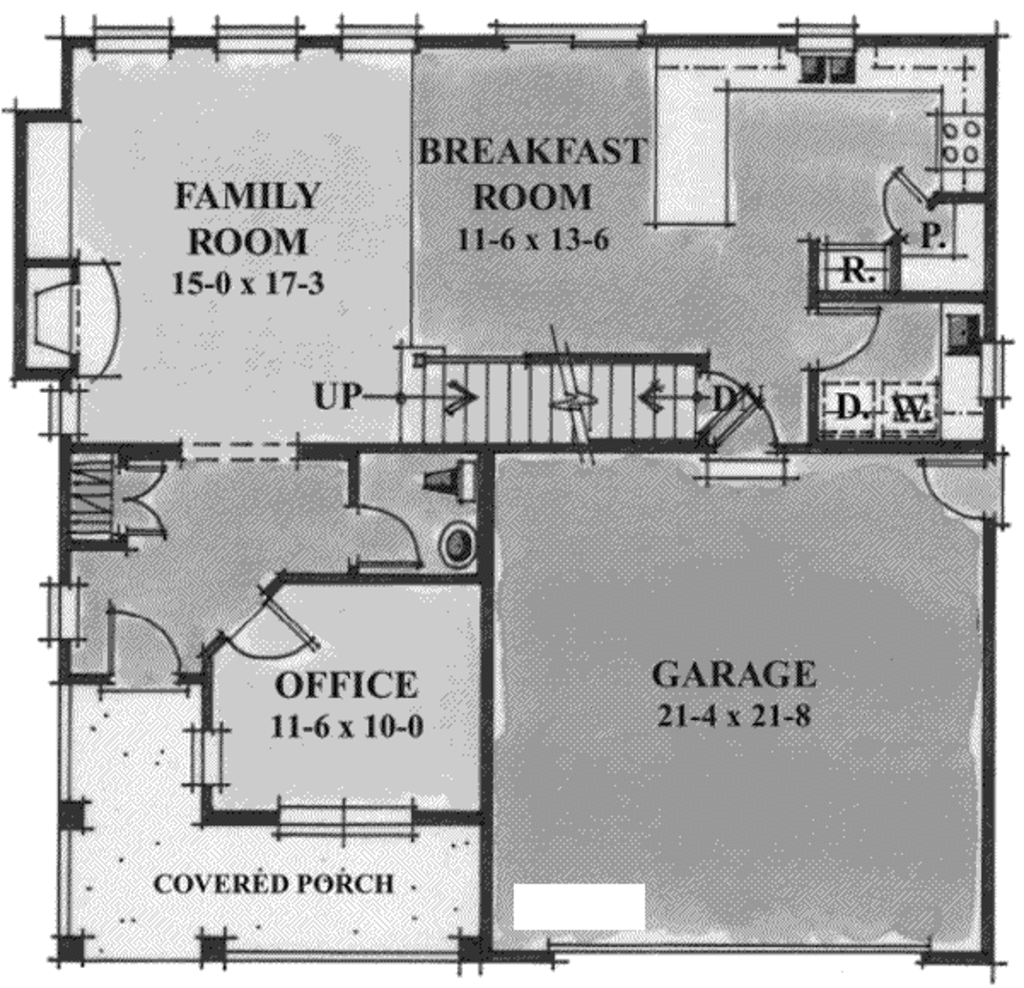door: (205, 587, 321, 660), (90, 602, 184, 689), (924, 456, 1014, 526), (870, 163, 944, 244), (805, 303, 881, 378), (353, 506, 430, 575), (117, 454, 173, 539)
large_sink: (409, 460, 478, 508)
small_sink: (436, 511, 476, 583)
stairs: (400, 344, 703, 456)
twin_sink: (803, 47, 863, 87)
window: (212, 20, 305, 60), (90, 15, 176, 57), (336, 12, 422, 53), (790, 21, 853, 47)
